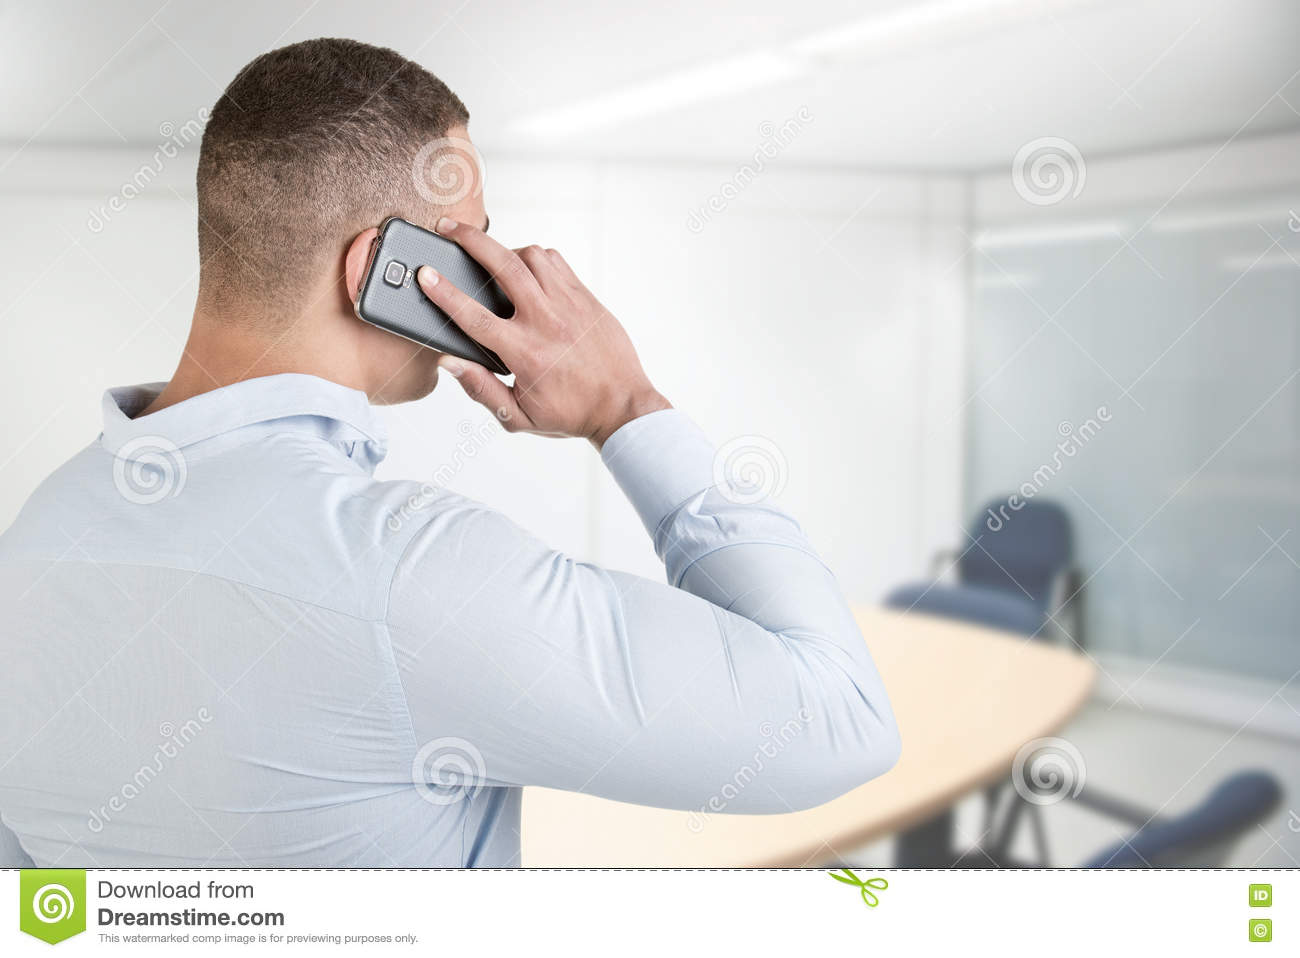phone: (357, 216, 530, 381)
